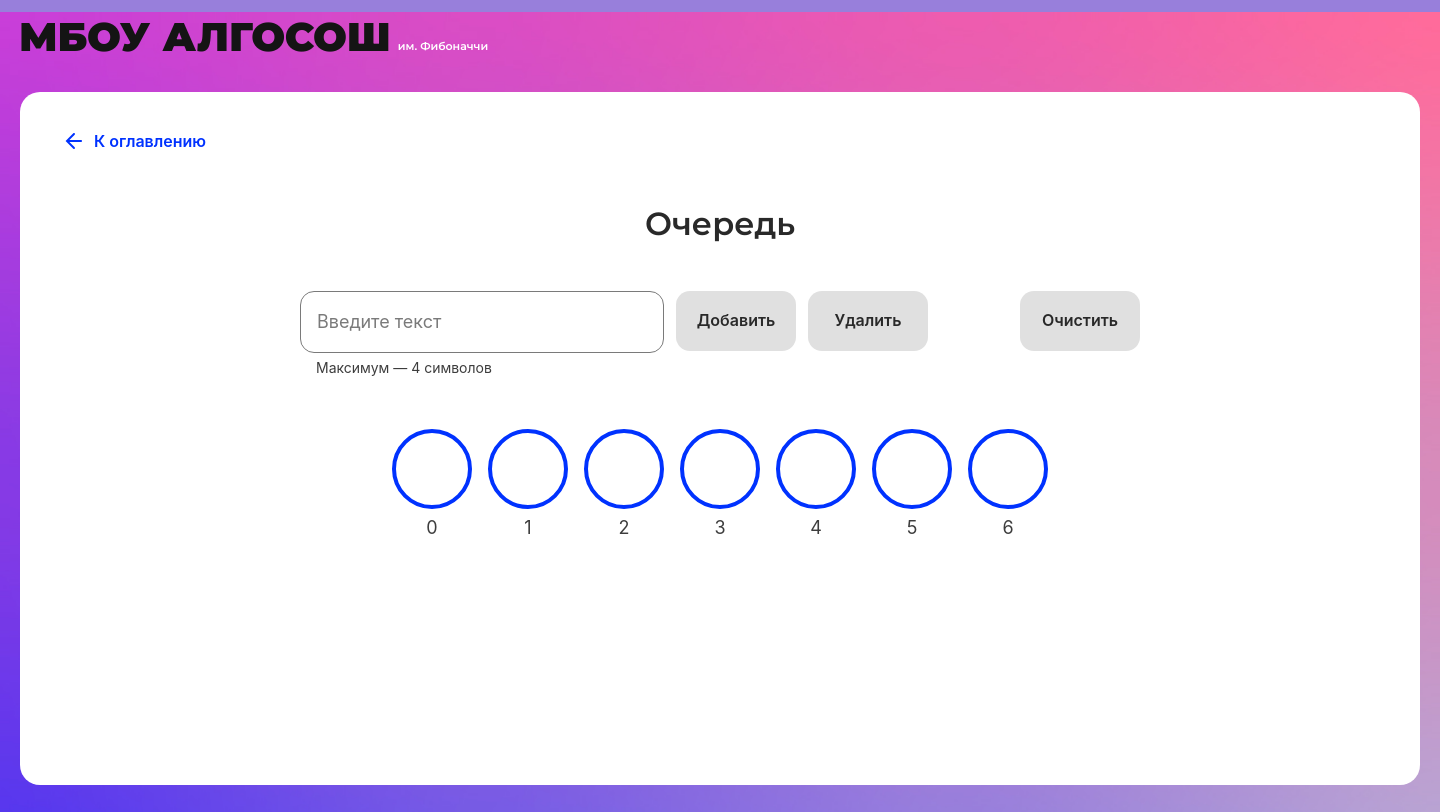
Test case: Testing <<Queue>> page › should current add two elements in queue
// add first element
Type "dog" into the field with placeholder "Введите текст" at (482, 322), box [300, 291, 664, 353]
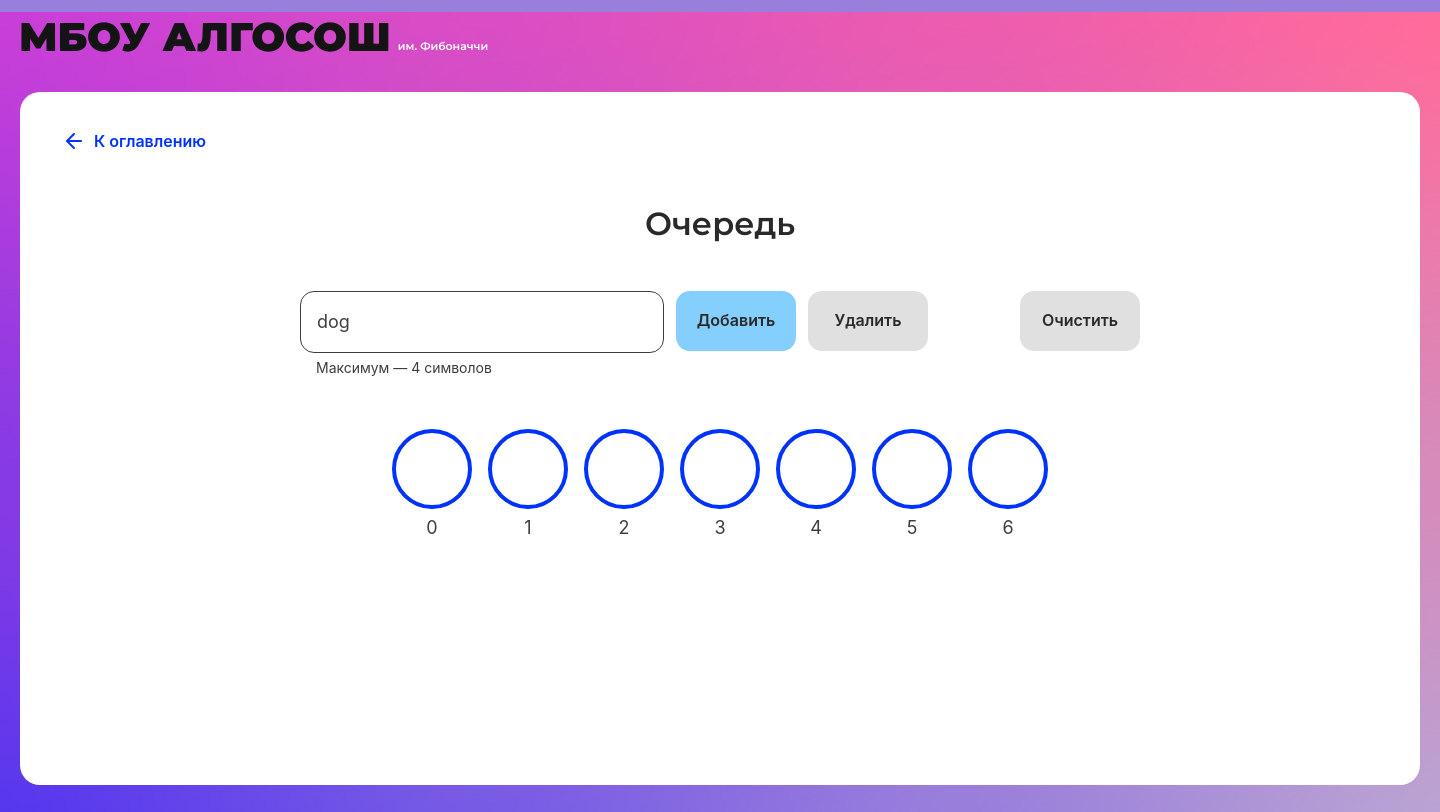
Click the button "Добавить" at (736, 321), box [676, 291, 796, 351]
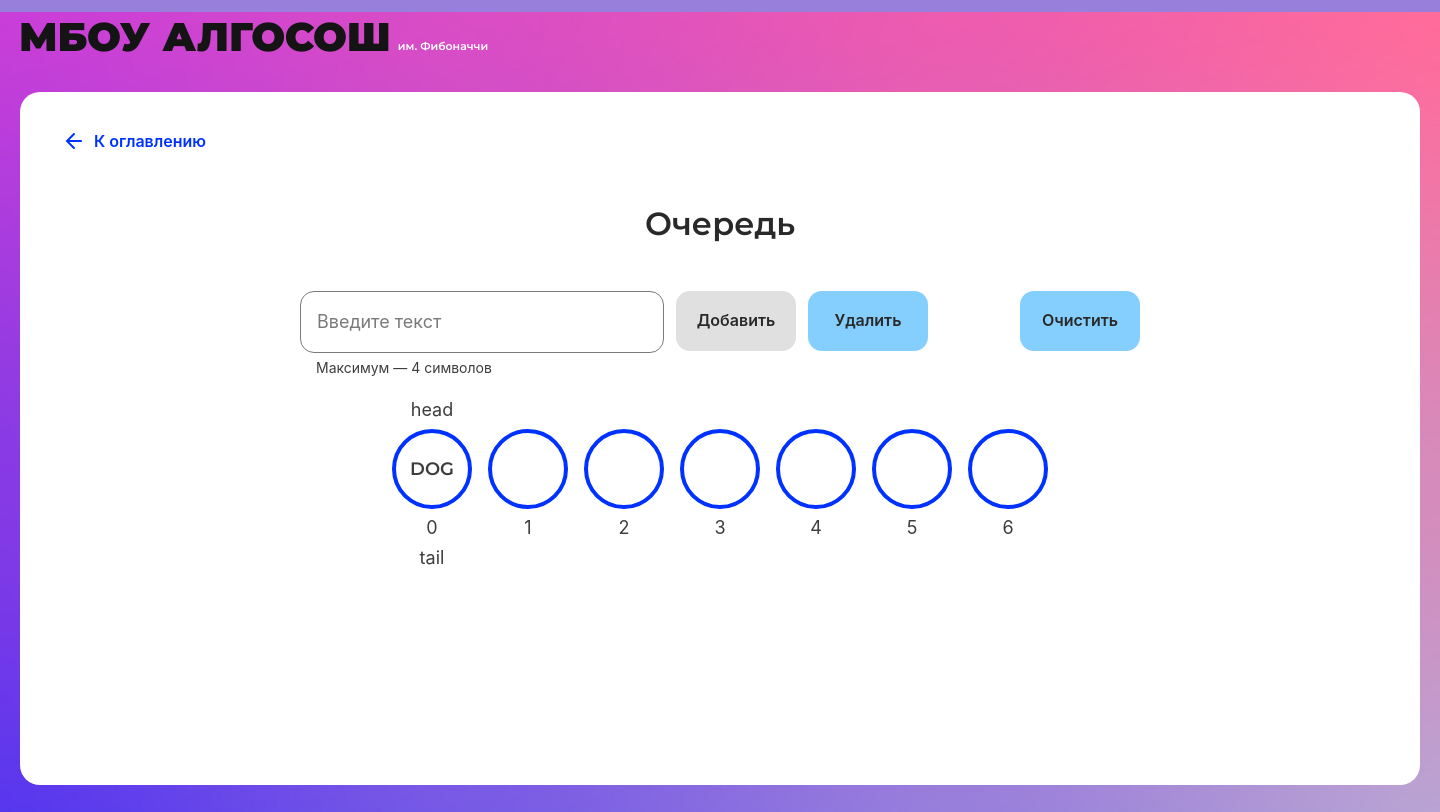
Expected: the field with placeholder "Введите текст" is empty
Expected: the text "dog" is shown, [410, 458, 454, 480]
Expected: the button "Добавить" is disabled, [676, 291, 796, 351]
// add second element
Type "cat" into the field with placeholder "Введите текст" at (482, 322), box [300, 291, 664, 353]
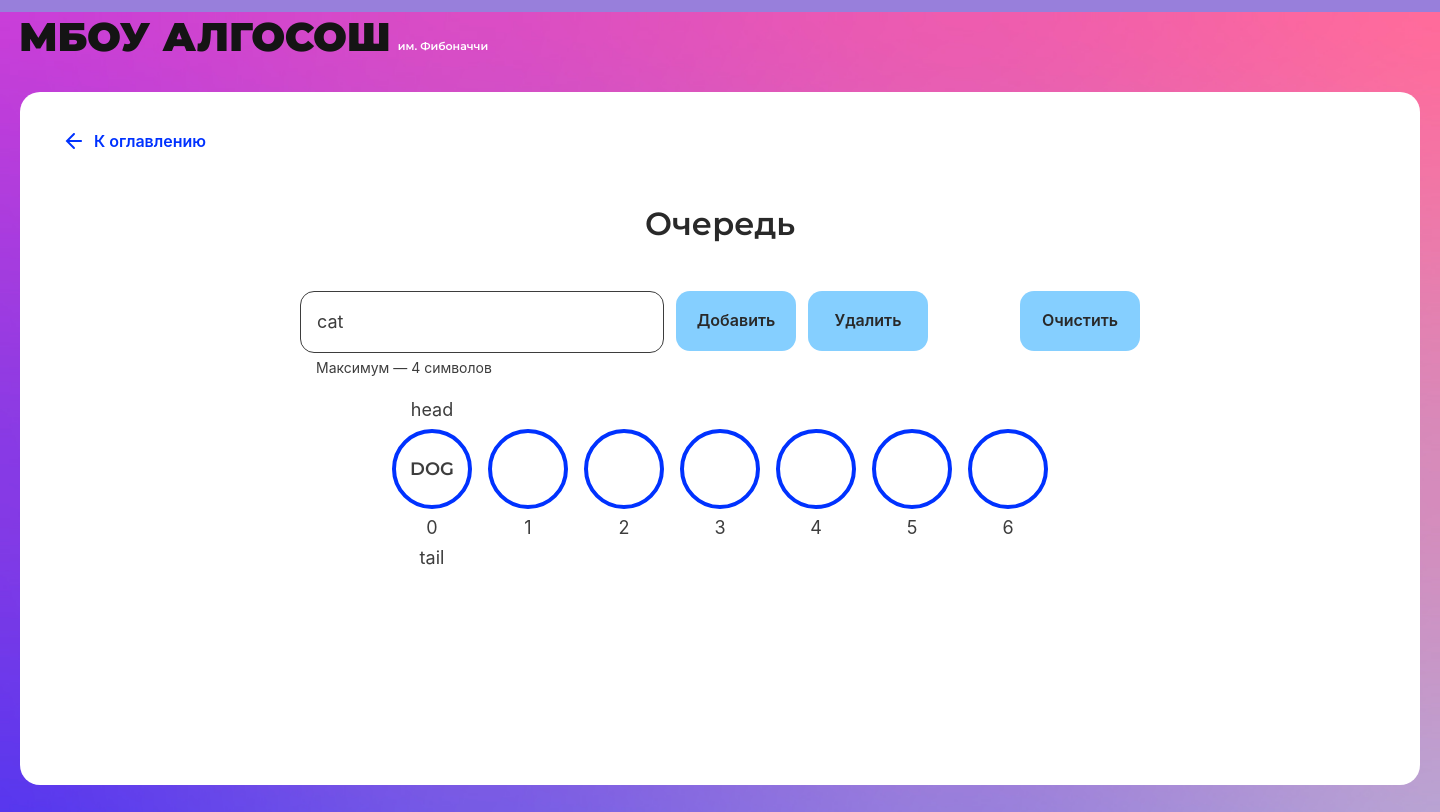
Click the button "Добавить" at (736, 321), box [676, 291, 796, 351]
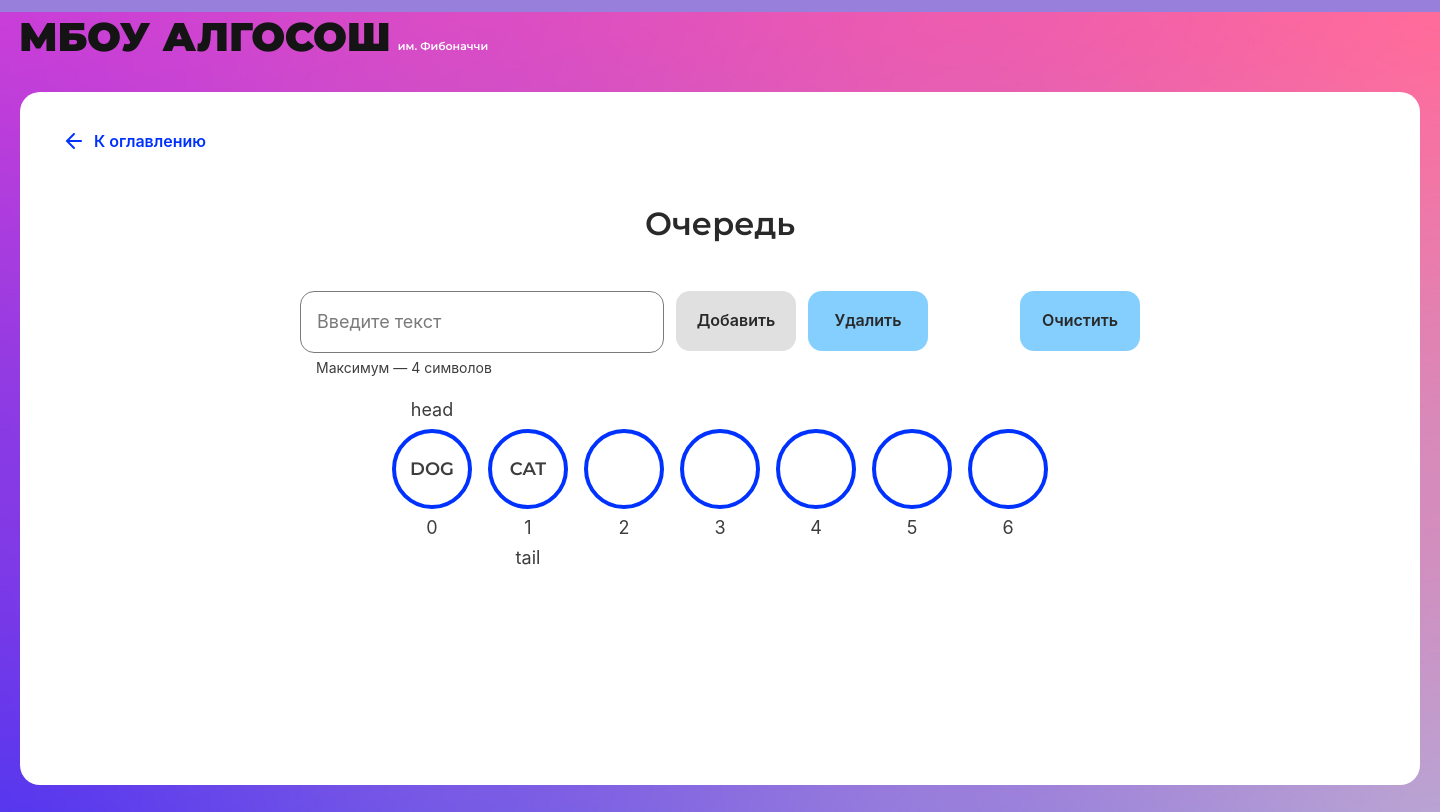
Expected: the text "dog" is shown, [410, 458, 454, 480]
Expected: the field with placeholder "Введите текст" is empty, [300, 291, 664, 353]
Expected: the text "cat" is shown, [510, 458, 546, 480]
